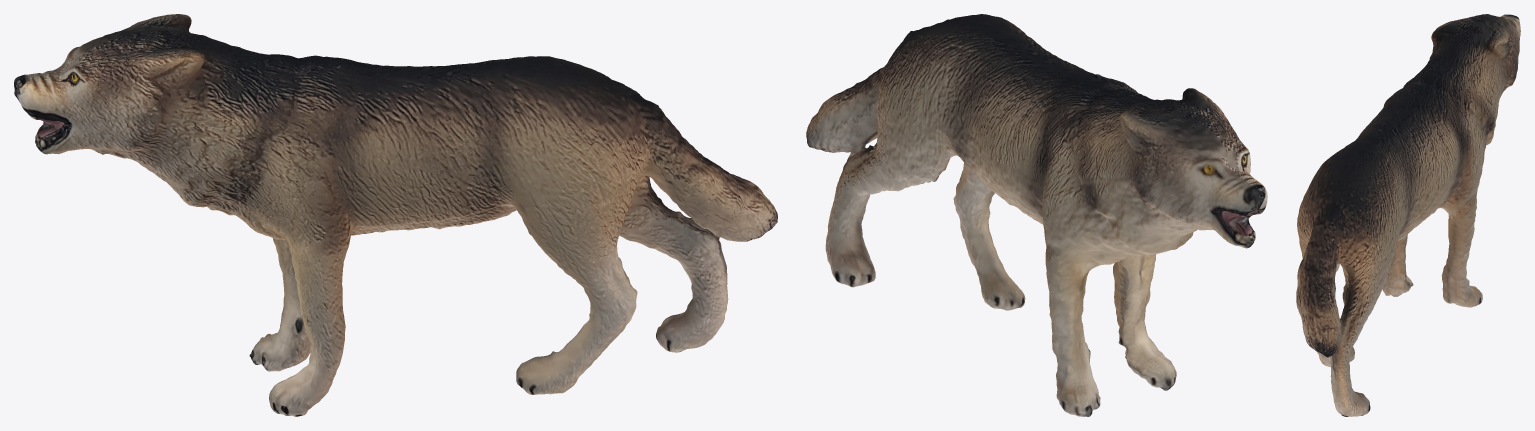
The model's file is lobo.gltf.
3 views of the same model, side by side, from view 1: azimuth 30°, elevation 25°; view 2: azimuth 150°, elevation 25°; view 3: azimuth 270°, elevation 25° (orthographic). The views are drawn at different scales.
Visible parts, largest first — view 1: Object_2; view 2: Object_2; view 3: Object_2.
Boxes of the visible parts, bbox=[...] form: Object_2: bbox=[14, 14, 777, 416]; Object_2: bbox=[806, 14, 1267, 416]; Object_2: bbox=[1296, 14, 1520, 416].
Bounding box in the file's own units: 3.01 × 1.65 × 1.37.
Materials: 1 (1 with a texture image).
